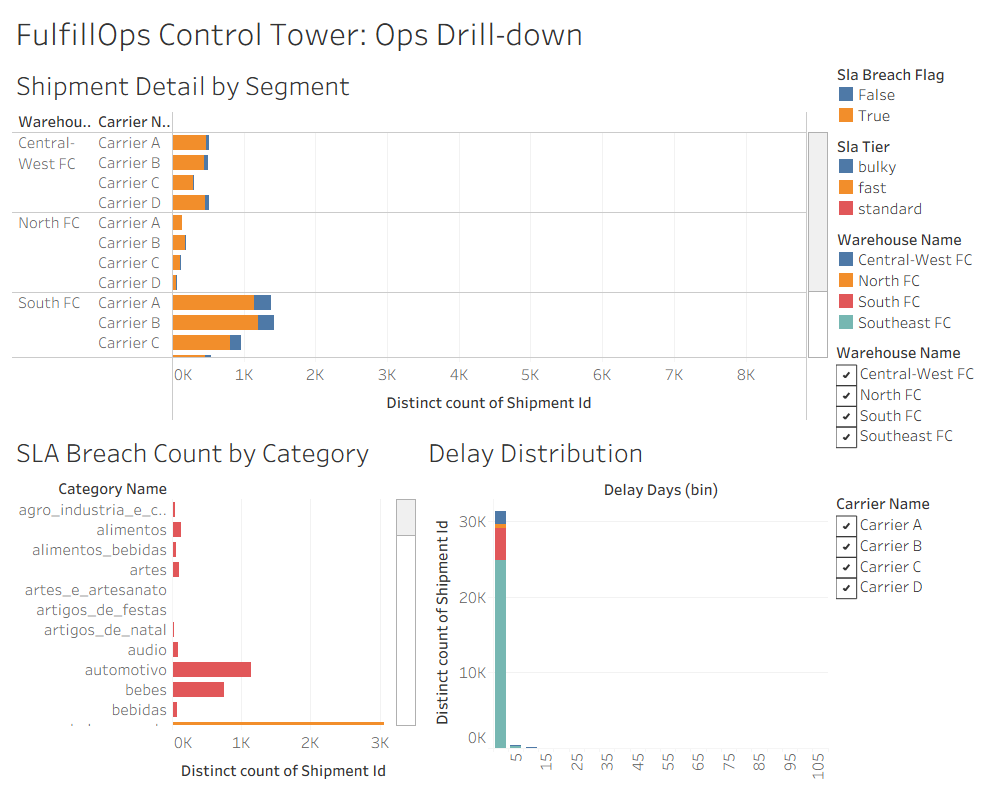

This screenshot's page, from the dashboard's own definition file:
{"tool":"tableau","page":{"name":"Ops Drill-down","canvas":[1000,800],"ordinal":1},"visuals":[{"type":"title","box":[8,8,984,50]},{"type":"worksheet","title":"Shipment Detail by Segment","mark":"Automatic","rows":["warehouse_name","carrier_name"],"cols":["shipment_id"],"box":[8,58,824,367]},{"type":"legend","title":"Shipment Detail by Segment","param":"[federated.1g1e2zw1yv44pv11dzm5m1k7dvjs].[none:sla_breach_flag:nk]","box":[832,58,160,72]},{"type":"legend","title":"SLA Breach Count by Category","param":"[federated.1g1e2zw1yv44pv11dzm5m1k7dvjs].[none:sla_tier:nk]","box":[832,130,160,93]},{"type":"legend","title":"Delay Distribution","param":"[federated.1g1e2zw1yv44pv11dzm5m1k7dvjs].[none:warehouse_name:nk]","box":[832,223,160,114]},{"type":"filter","title":"Shipment Detail by Segment","param":"[federated.1g1e2zw1yv44pv11dzm5m1k7dvjs].[none:warehouse_name:nk]","box":[832,337,160,151]},{"type":"worksheet","title":"SLA Breach Count by Category","mark":"Automatic","rows":["category_name"],"cols":["shipment_id"],"box":[8,425,412,367]},{"type":"worksheet","title":"Delay Distribution","mark":"Bar","rows":["shipment_id"],"cols":["Delay Days (bin)"],"box":[420,425,412,367]},{"type":"filter","title":"Shipment Detail by Segment","param":"[federated.1g1e2zw1yv44pv11dzm5m1k7dvjs].[none:carrier_name:nk]","box":[832,488,160,151]}]}

Visuals, with their boxes in screenshot pixels (x1, y1, x2, y2), scaled from the page's 1000x800 canvas onto the 1000x800 screenshot:
title: (x1=8, y1=8, x2=992, y2=58)
"Shipment Detail by Segment" worksheet: (x1=8, y1=58, x2=832, y2=425)
"Shipment Detail by Segment" legend: (x1=832, y1=58, x2=992, y2=130)
"SLA Breach Count by Category" legend: (x1=832, y1=130, x2=992, y2=223)
"Delay Distribution" legend: (x1=832, y1=223, x2=992, y2=337)
"Shipment Detail by Segment" filter: (x1=832, y1=337, x2=992, y2=488)
"SLA Breach Count by Category" worksheet: (x1=8, y1=425, x2=420, y2=792)
"Delay Distribution" worksheet (Bar marks): (x1=420, y1=425, x2=832, y2=792)
"Shipment Detail by Segment" filter: (x1=832, y1=488, x2=992, y2=639)
